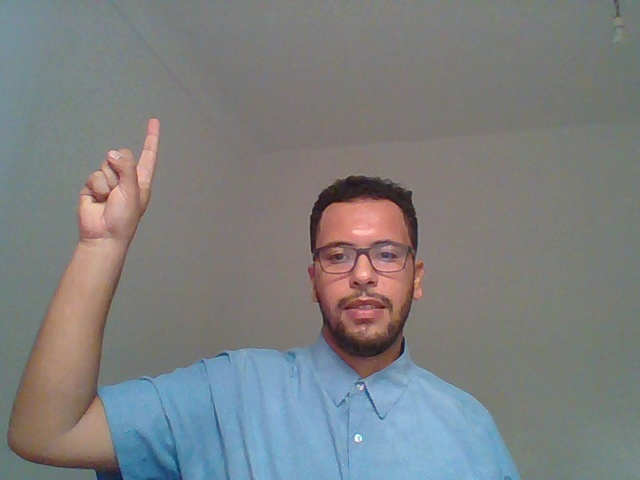handup: (46, 94, 176, 392)
